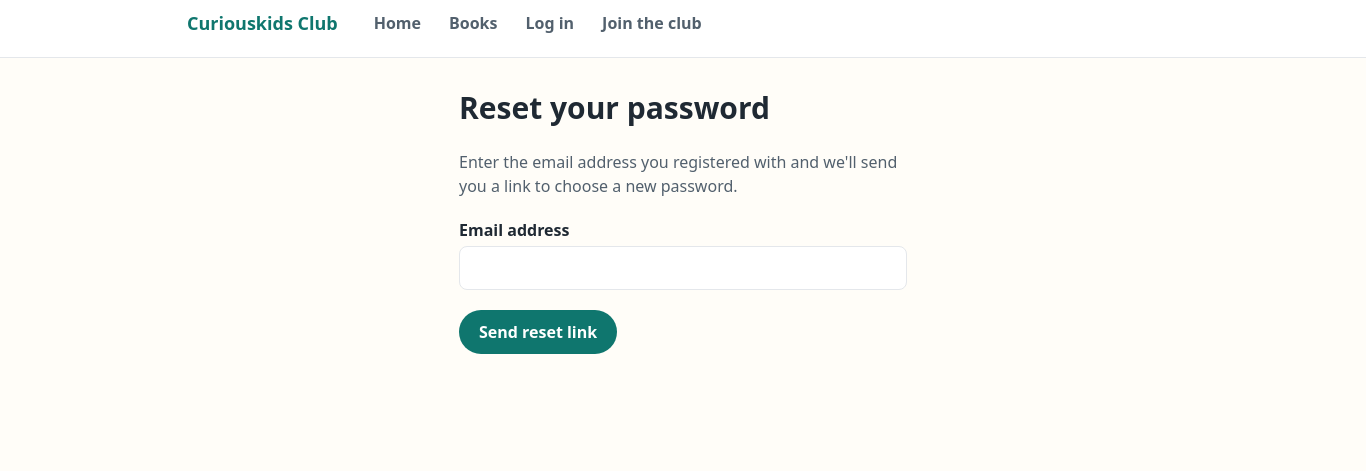
Scenario: Reset password page › FR-ID-04: says how long to wait when too many links were asked for
In the field labelled "Email address": (683, 268) [459,246,907,290], type "sam@example.com"
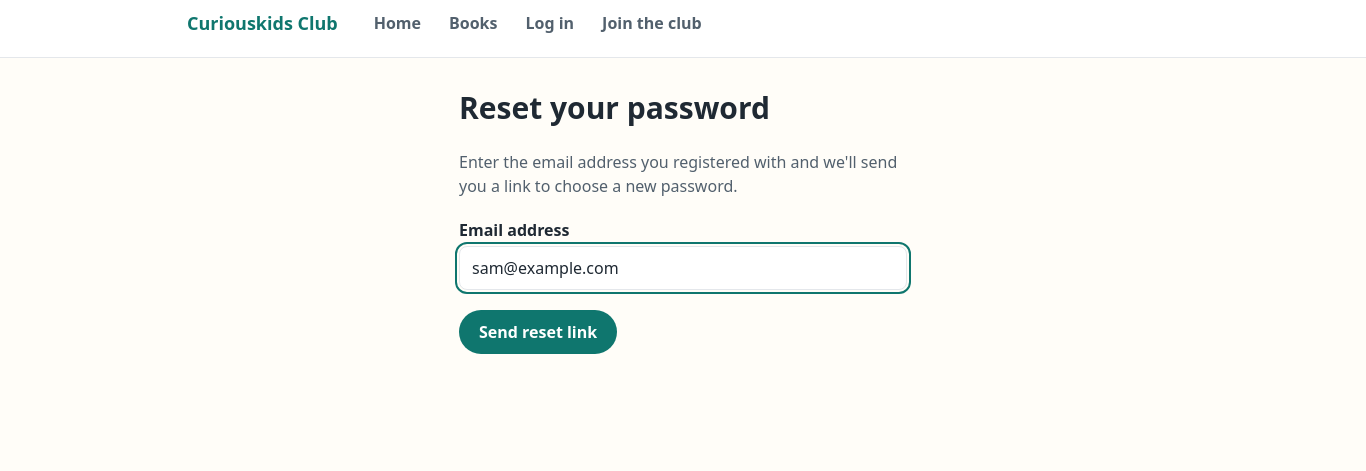
Click the button "Send reset link": (538, 332) [459,310,617,354]
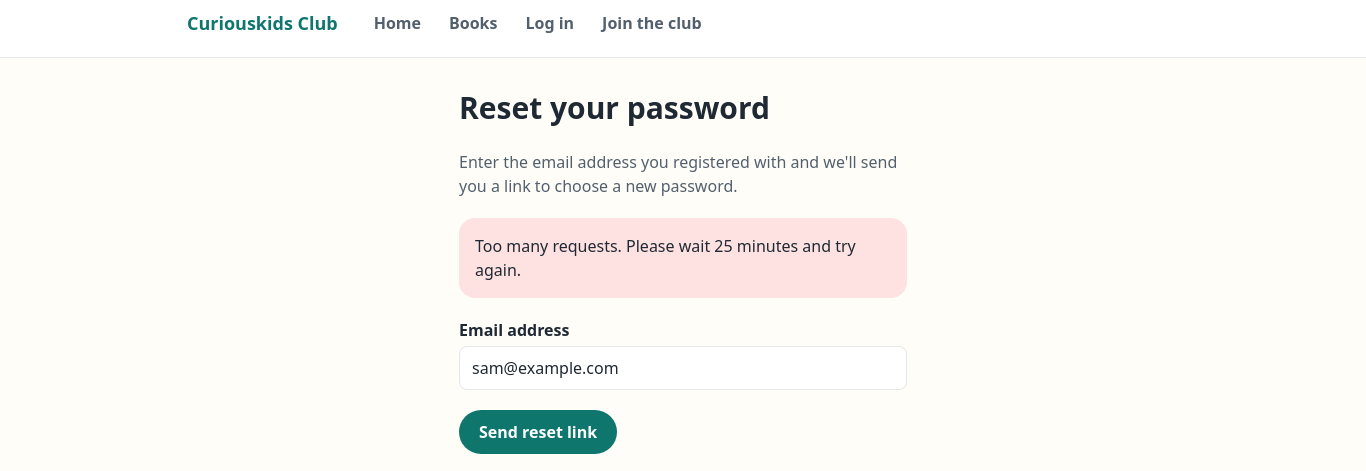
Expected: the message reads "Too many requests. Please wait 25 minutes and try again.", [475,235,856,281]
